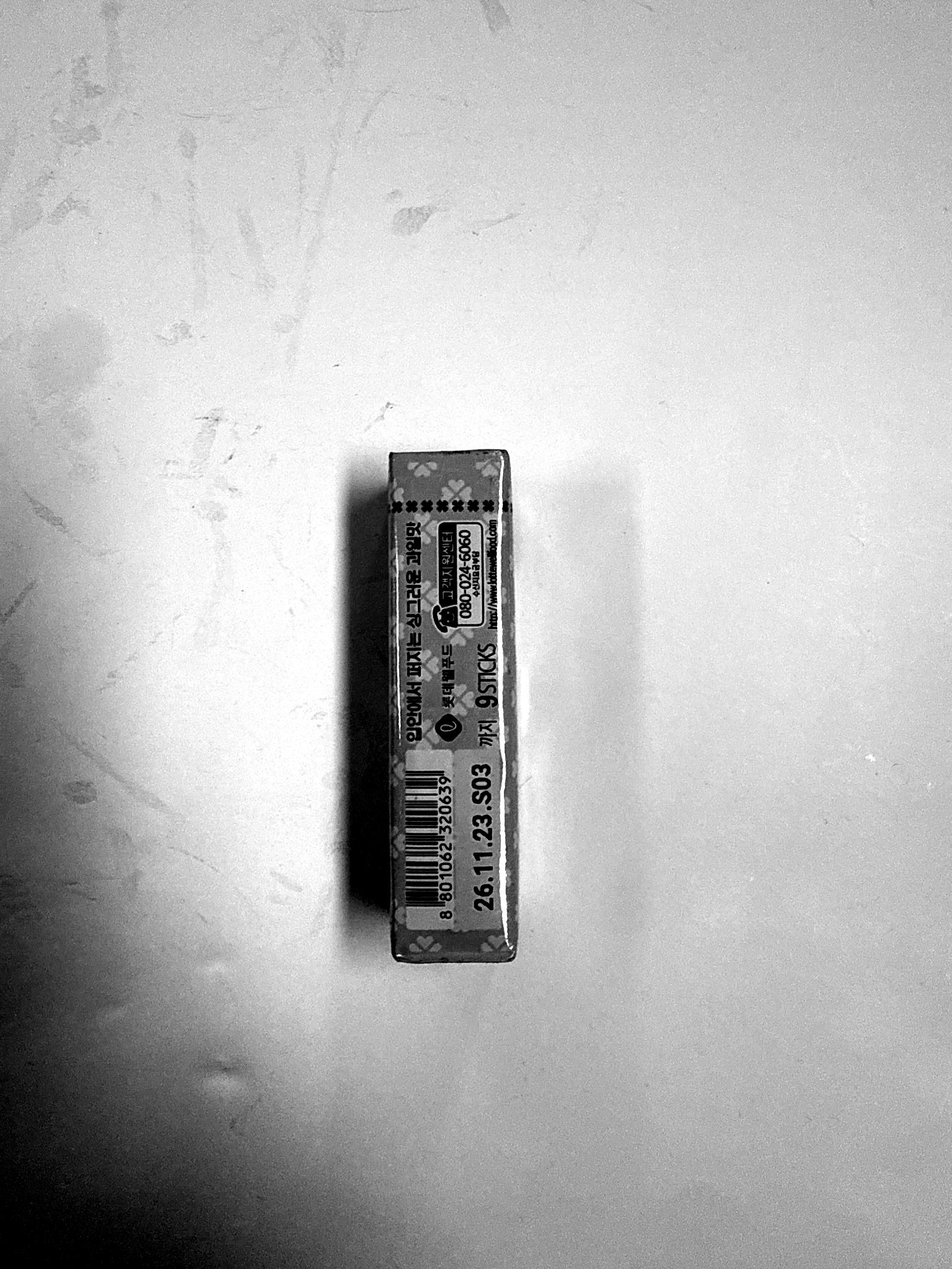gum_yellow: (385, 449, 519, 965)
